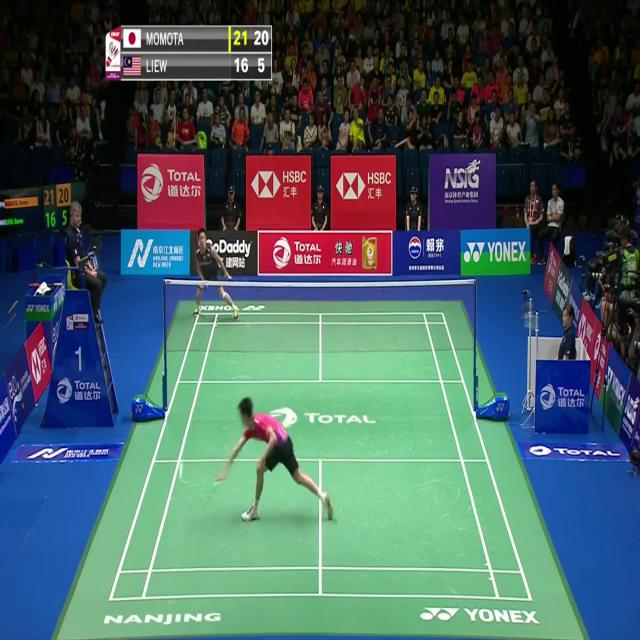Shuttlecock: (178, 463, 184, 474)
